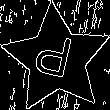P_S: (33, 30, 80, 88)
